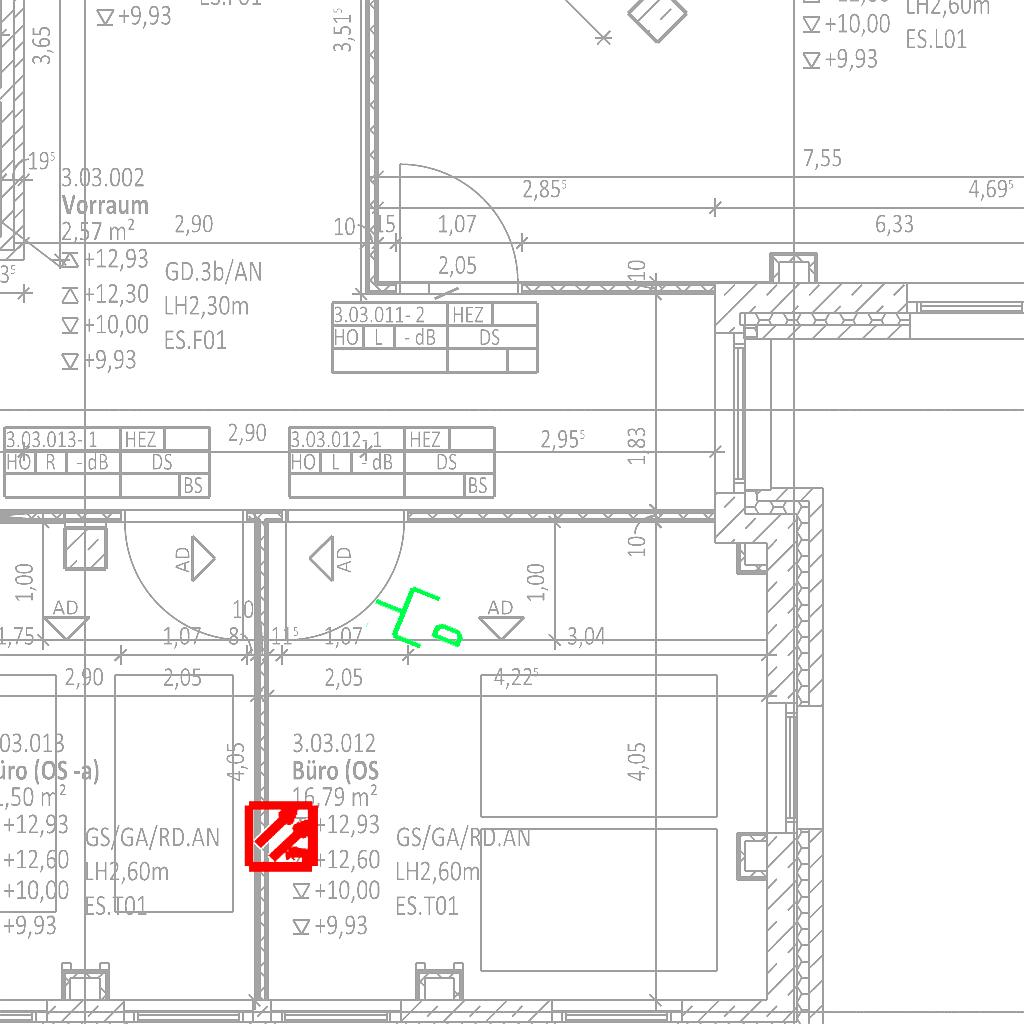Datenanschluss_einfach: (361, 566, 480, 668)
OT_Multisensormelder_(Kombination_RMO_WMD): (227, 780, 340, 893)
